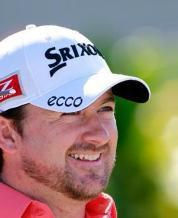face: (62, 104, 115, 170)
